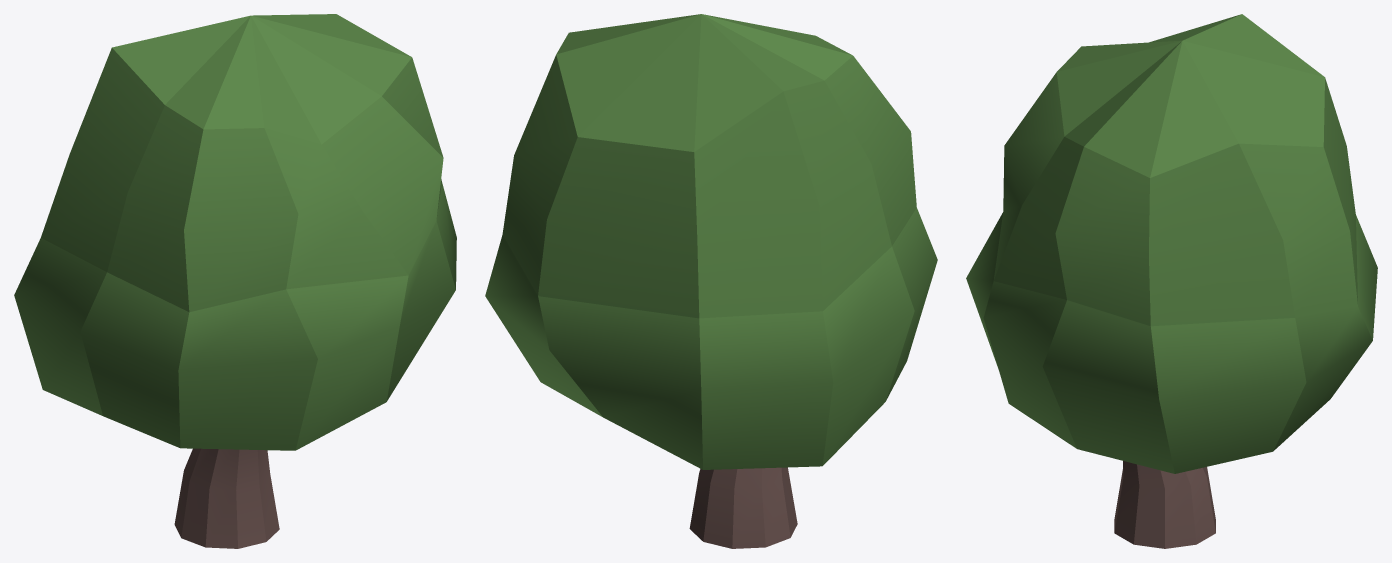
File: tree02.fbx
The picture shows the model from 3 angles, left to right: view 1: azimuth 30°, elevation 25°; view 2: azimuth 150°, elevation 25°; view 3: azimuth 270°, elevation 25°; orthographic projection. The views are drawn at different scales.
Visible parts, largest first — view 1: group2, pCylinder2; view 2: group2, pCylinder2; view 3: group2, pCylinder2.
Boxes of the visible parts, left/top/right/bottom form: group2: left=14, top=14, right=456, bottom=450; pCylinder2: left=174, top=448, right=279, bottom=548; group2: left=485, top=14, right=937, bottom=469; pCylinder2: left=689, top=467, right=797, bottom=548; group2: left=966, top=14, right=1377, bottom=473; pCylinder2: left=1114, top=461, right=1215, bottom=548.
Size of the model in its own units: 37.28 by 46.21 by 34.38.
